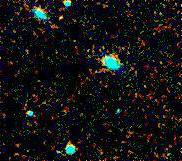star: (47, 2, 77, 32)
